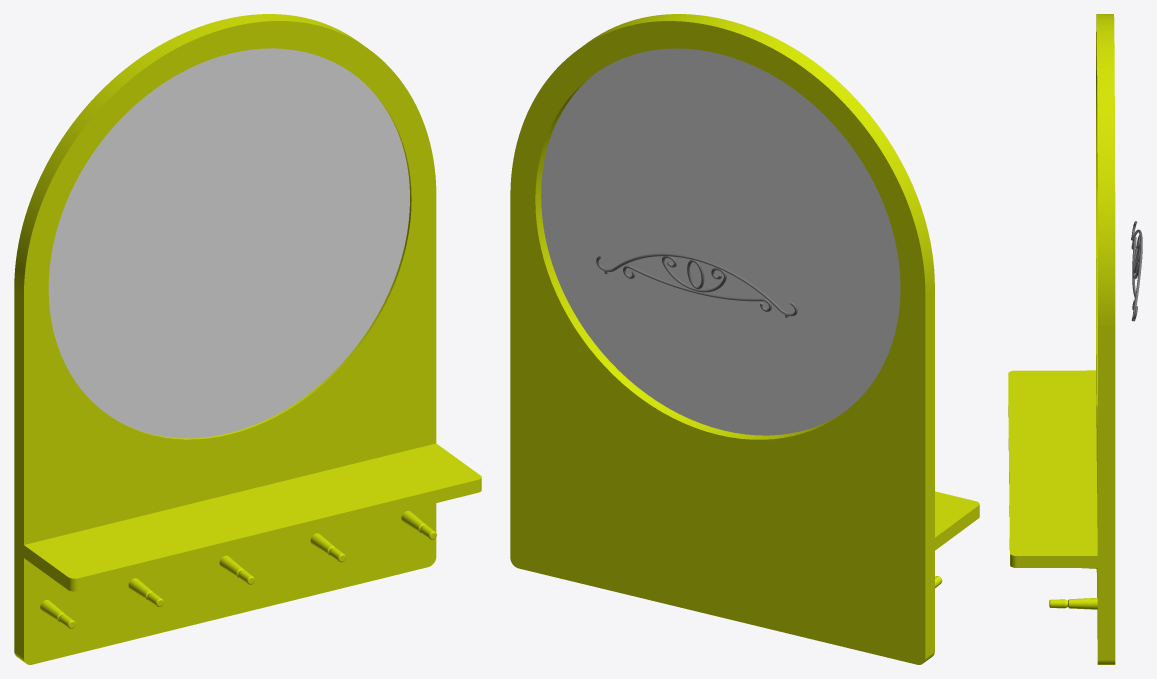
Rendered from mirror_2.glb.
The picture shows the model from 3 angles, left to right: view 1: azimuth 30°, elevation 25°; view 2: azimuth 150°, elevation 25°; view 3: azimuth 270°, elevation 25°; orthographic projection. The views are drawn at different scales.
Visible parts, largest first — view 1: IKE160035; view 2: IKE160035, Loft004; view 3: IKE160035, Loft004.
Part boxes in pixels (left/top/right/bottom): IKE160035: left=14, top=14, right=481, bottom=664; IKE160035: left=510, top=14, right=979, bottom=664; Loft004: left=596, top=253, right=797, bottom=316; IKE160035: left=1008, top=14, right=1115, bottom=664; Loft004: left=1131, top=221, right=1142, bottom=319.
Bounding box in the file's own units: 500 × 680 × 153.
